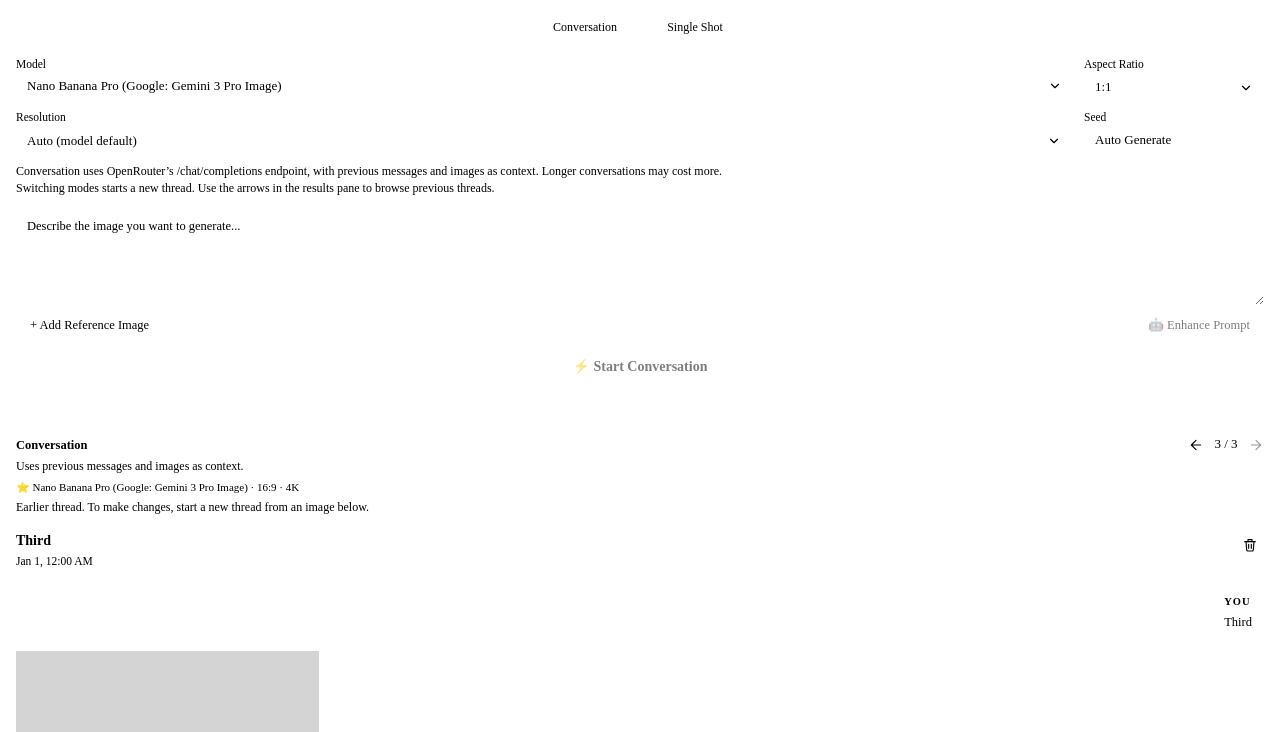
Test case: the Image tab › deletes the visible archive and focuses the next result, then the prompt when empty
Expected: the 1st text "Third" is shown, left=16, top=533, right=51, bottom=548
What coordinates should you click on to do the following:
click the button named "Previous thread"
I would click on:
 (1196, 445)
Its box is left=1188, top=437, right=1204, bottom=453.
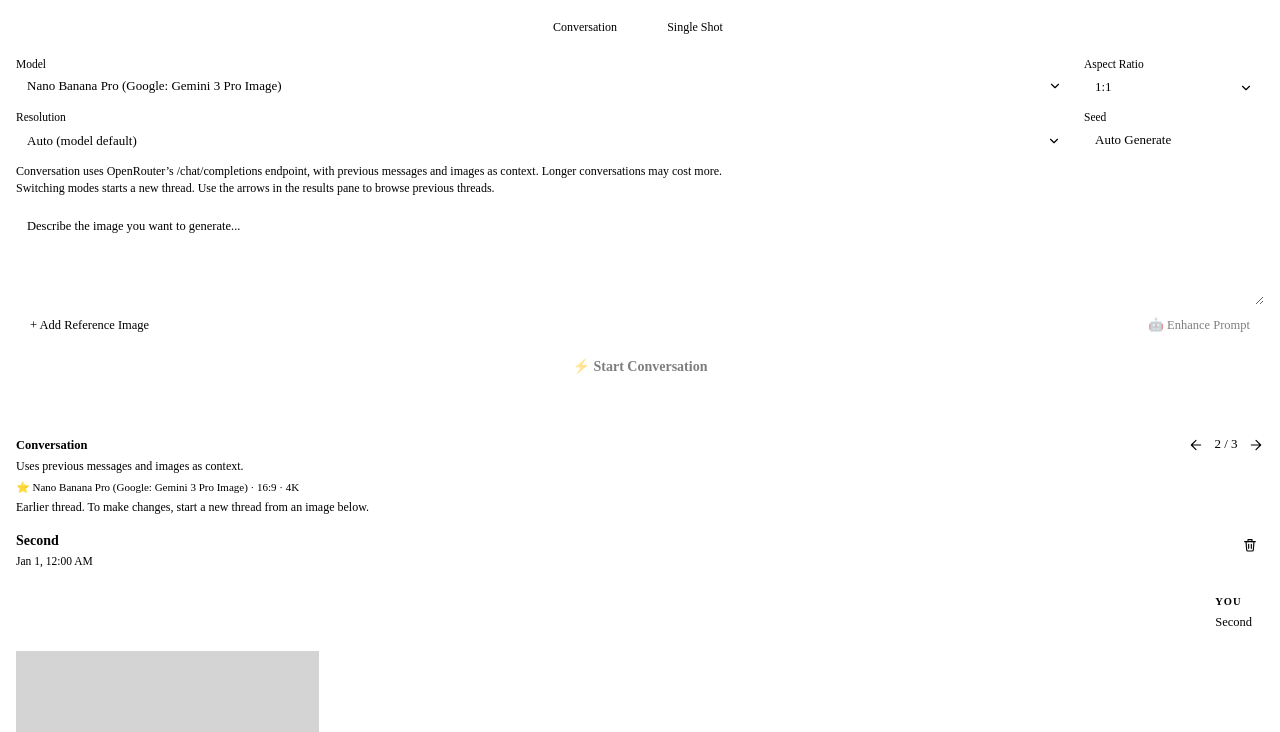
What coordinates should you click on to do the following:
click the button named "Delete thread"
I would click on:
 (1250, 545)
Its box is left=1236, top=531, right=1264, bottom=559.
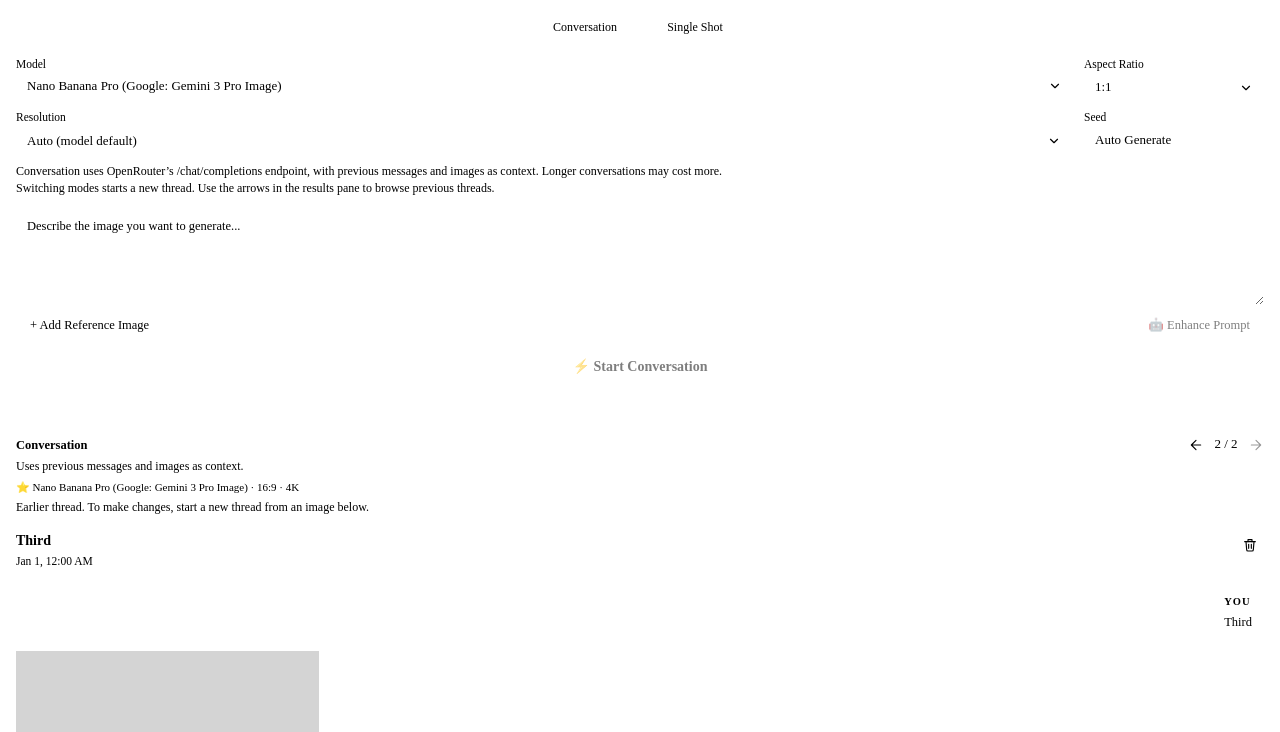
Expected: the 1st text "Third" is shown, left=16, top=533, right=51, bottom=548
What coordinates should you click on to do the following:
click the button named "Delete thread"
I would click on:
 (1250, 545)
Its box is left=1236, top=531, right=1264, bottom=559.
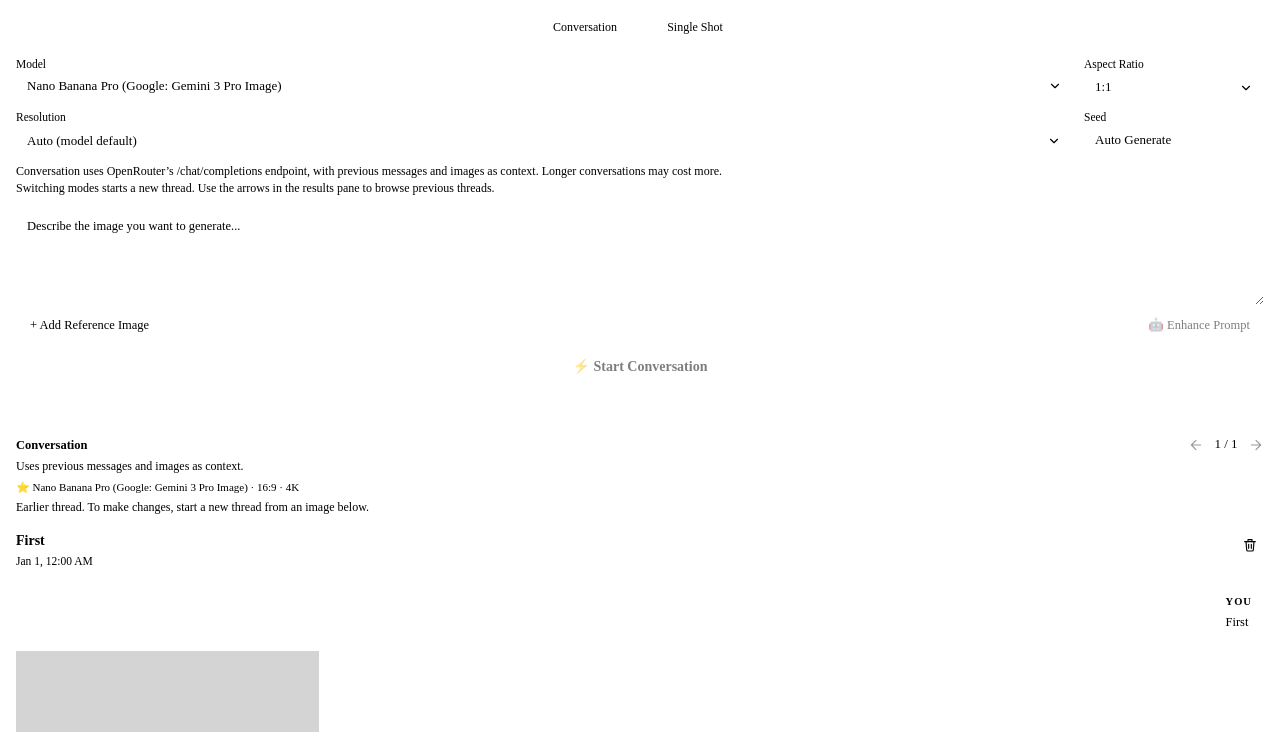
Expected: the 1st text "First" is shown, left=16, top=533, right=45, bottom=548
What coordinates should you click on to do the following:
click the button named "Delete thread"
I would click on:
 (1250, 545)
Its box is left=1236, top=531, right=1264, bottom=559.
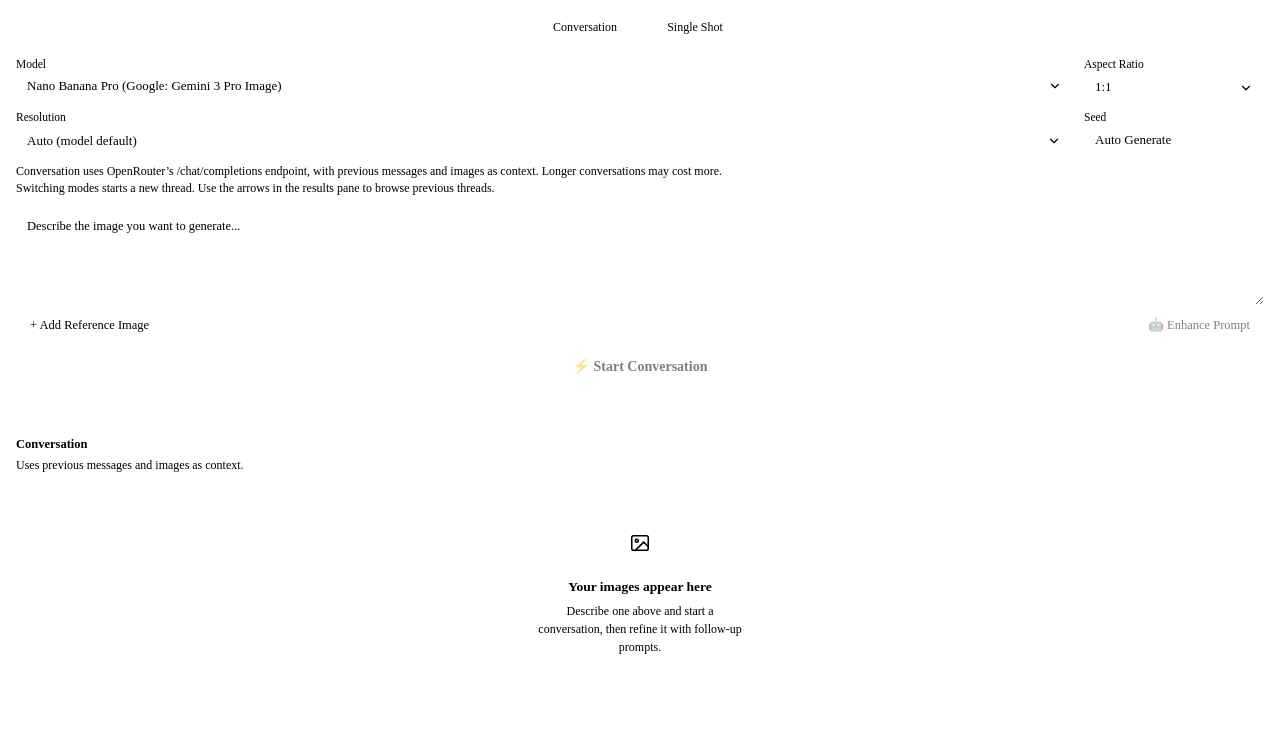
Expected: the text "Your images appear here" is shown, left=568, top=577, right=712, bottom=596
